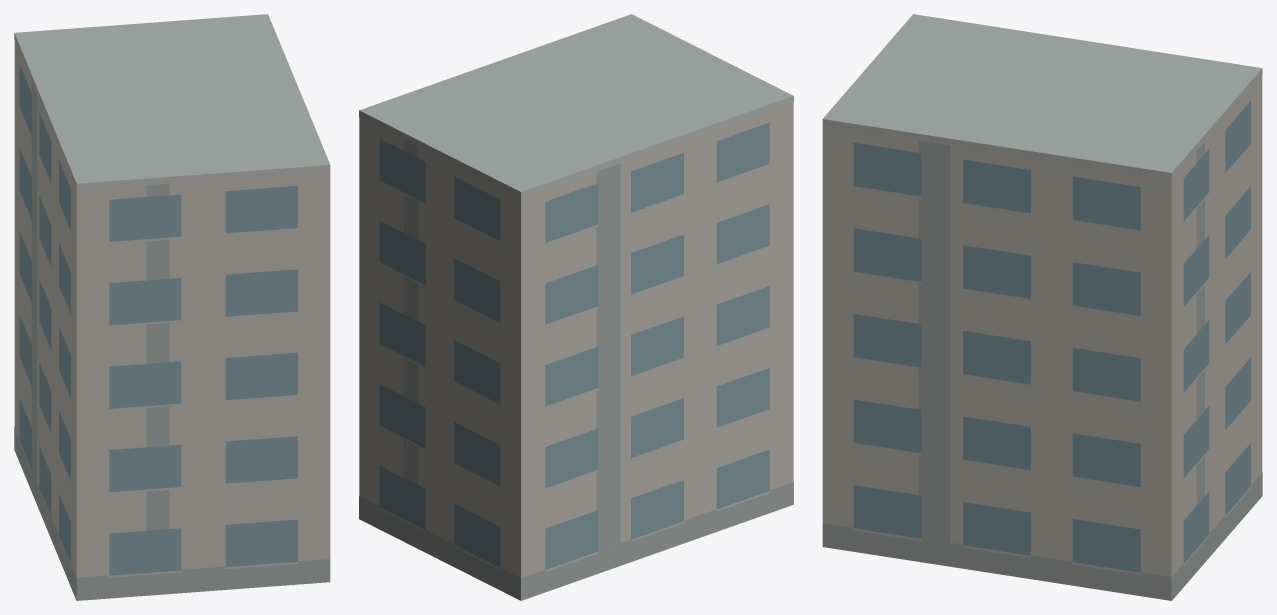
The model's file is residential-c67017d0-fbb1-447a-9258-fc60aa4d248d.glb.
3 renders of one model, left to right at view 1: azimuth 30°, elevation 25°; view 2: azimuth 150°, elevation 25°; view 3: azimuth 270°, elevation 25°, orthographic. The views are drawn at different scales.
Parts seen in each view (by area): view 1: residential-c67017d0-fbb1-447a-9258-fc60aa4d248d.tmp; view 2: residential-c67017d0-fbb1-447a-9258-fc60aa4d248d.tmp; view 3: residential-c67017d0-fbb1-447a-9258-fc60aa4d248d.tmp.
Boxes of the visible parts, left/top/right/bottom form: residential-c67017d0-fbb1-447a-9258-fc60aa4d248d.tmp: left=14, top=14, right=330, bottom=600; residential-c67017d0-fbb1-447a-9258-fc60aa4d248d.tmp: left=359, top=14, right=793, bottom=600; residential-c67017d0-fbb1-447a-9258-fc60aa4d248d.tmp: left=822, top=14, right=1262, bottom=600.
Size of the model in its own units: 12.15 by 15.25 by 14.22.
